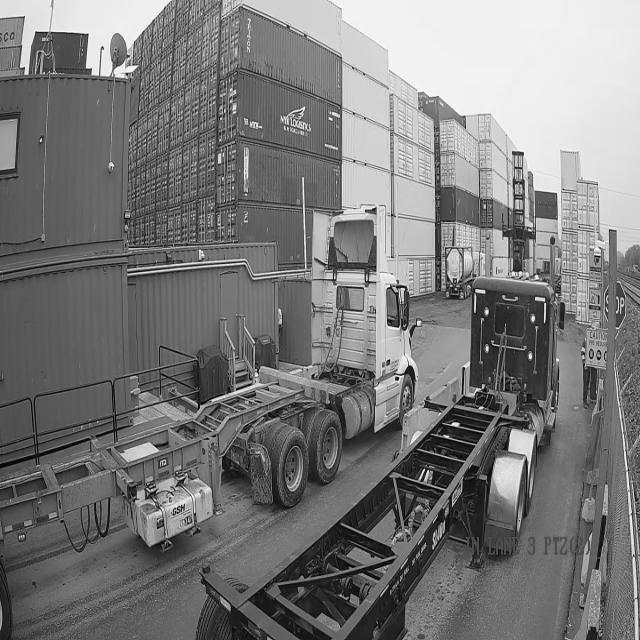truck_without_container: (0, 205, 418, 639), (202, 277, 564, 639)
